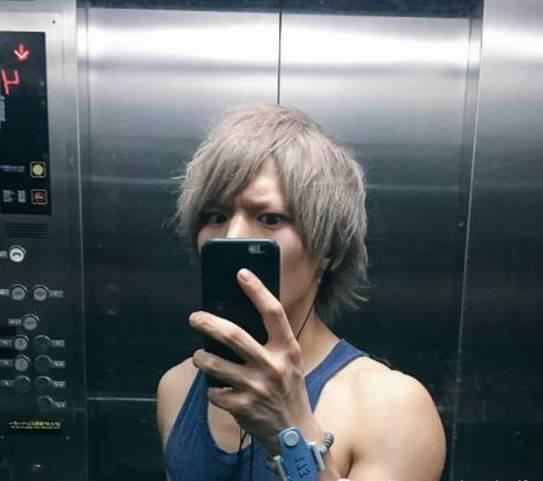face: (193, 162, 318, 314)
